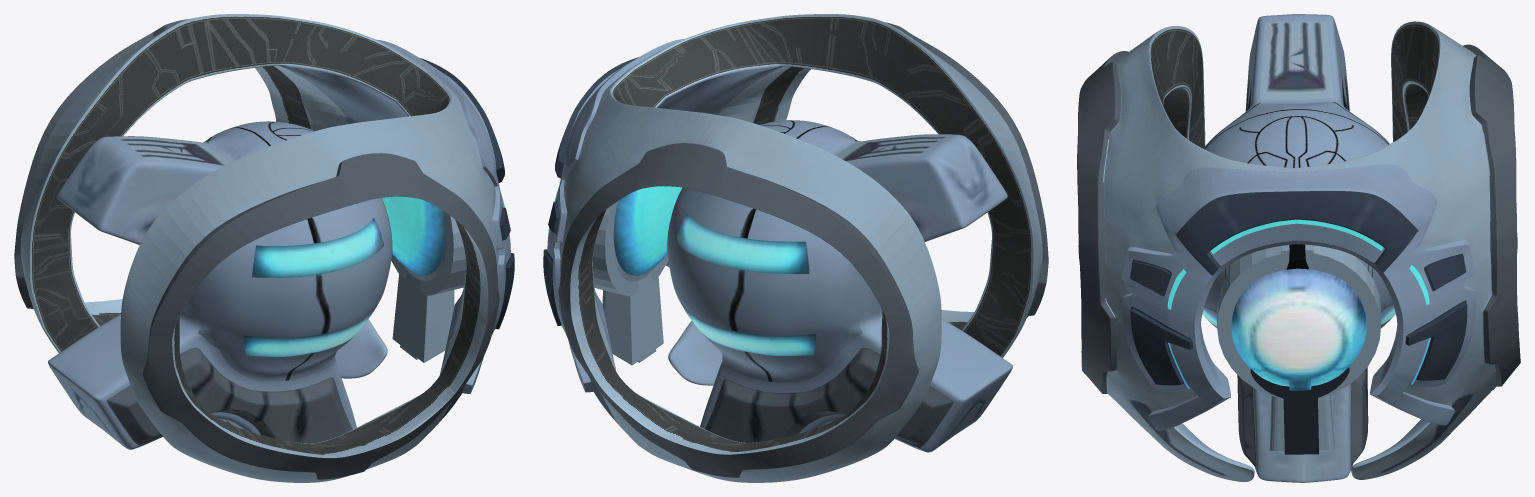
File: guilty_spark.glb
3 views of the same model, side by side, from view 1: azimuth 30°, elevation 25°; view 2: azimuth 150°, elevation 25°; view 3: azimuth 270°, elevation 25° (orthographic). The views are drawn at different scales.
Parts seen in each view (by area): view 1: OuterShell_Plane.000_OuterShellMtrl_0, OuterShell.002_Plane.015_InnerRingsBig_0, InnerCore.002_Plane.019_InnerSphereMaterial_0, OuterShell.007_Plane.012_InnerRingsSmall_0, Eye_Plane.003_EyeMaterial_0, BackLED_Plane.002_InnerEyeMaterial_0; view 2: OuterShell_Plane.000_OuterShellMtrl_0, OuterShell.002_Plane.015_InnerRingsBig_0, InnerCore.002_Plane.019_InnerSphereMaterial_0, Eye_Plane.003_EyeMaterial_0, BackLED_Plane.002_InnerEyeMaterial_0; view 3: OuterShell_Plane.000_OuterShellMtrl_0, Eye_Plane.003_EyeMaterial_0, InnerCore.002_Plane.019_InnerSphereMaterial_0, OuterShell.002_Plane.015_InnerRingsBig_0, OuterShell.007_Plane.012_InnerRingsSmall_0, BackLED_Plane.002_InnerEyeMaterial_0.
Boxes of the visible parts, box(x1,y1,x2,y2) form: OuterShell_Plane.000_OuterShellMtrl_0: box(14, 14, 514, 482); OuterShell.002_Plane.015_InnerRingsBig_0: box(70, 21, 488, 457); InnerCore.002_Plane.019_InnerSphereMaterial_0: box(197, 121, 392, 381); OuterShell.007_Plane.012_InnerRingsSmall_0: box(30, 15, 308, 352); Eye_Plane.003_EyeMaterial_0: box(243, 218, 384, 356); BackLED_Plane.002_InnerEyeMaterial_0: box(382, 196, 509, 275); OuterShell_Plane.000_OuterShellMtrl_0: box(543, 14, 1048, 482); OuterShell.002_Plane.015_InnerRingsBig_0: box(570, 15, 1032, 454); InnerCore.002_Plane.019_InnerSphereMaterial_0: box(667, 120, 862, 382); Eye_Plane.003_EyeMaterial_0: box(676, 213, 816, 355); BackLED_Plane.002_InnerEyeMaterial_0: box(548, 186, 682, 275); OuterShell_Plane.000_OuterShellMtrl_0: box(1077, 14, 1520, 482); Eye_Plane.003_EyeMaterial_0: box(1168, 268, 1430, 390); InnerCore.002_Plane.019_InnerSphereMaterial_0: box(1203, 102, 1392, 328); OuterShell.002_Plane.015_InnerRingsBig_0: box(1150, 27, 1428, 272); OuterShell.007_Plane.012_InnerRingsSmall_0: box(1391, 22, 1439, 141); BackLED_Plane.002_InnerEyeMaterial_0: box(1167, 219, 1429, 309).
Bounding box in the file's own units: 4.77 × 4.39 × 4.33.
7 materials, 7 textured.
